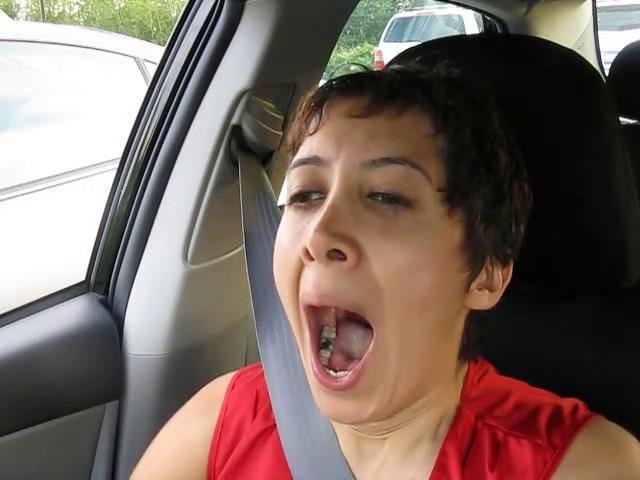close_eyeL: (277, 175, 343, 223)
close_eyeR: (345, 175, 435, 230)
yawn: (274, 290, 403, 406)
